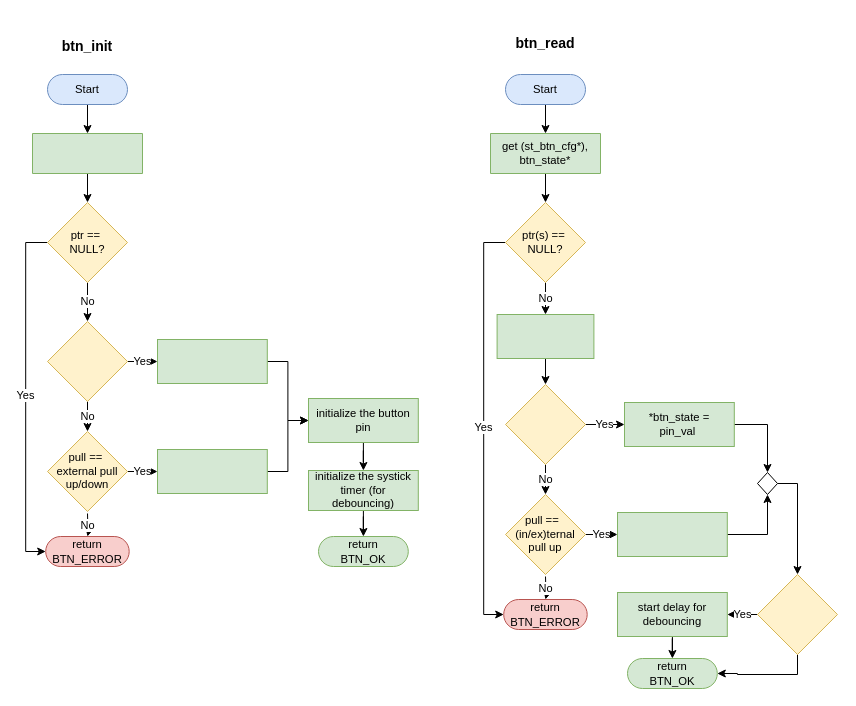
Some shapes in this 856 by 706 pixel diagram are drawn without their labels. Each missing label, with the centre of its shape:
*btn_state = !pin_val: the point at 671,534
btn_state == button pressed?: the point at 797,614
configure btn pin with pull type: the point at 211,361
configure button pin as floating input: the point at 211,471
get (st_btn_cfg*): the point at 87,153
pin_val = gpio_read_pin: the point at 545,336
pull == (in/ex)ternal pull down: the point at 545,424
pull == internal pull up/down: the point at 87,361
